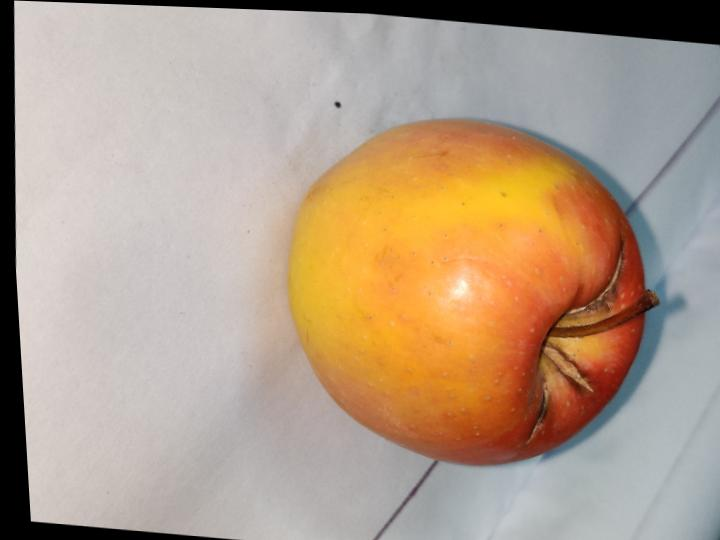apple: (288, 120, 658, 464)
surface_damage: (555, 241, 625, 327), (542, 344, 593, 392), (525, 383, 549, 445)
